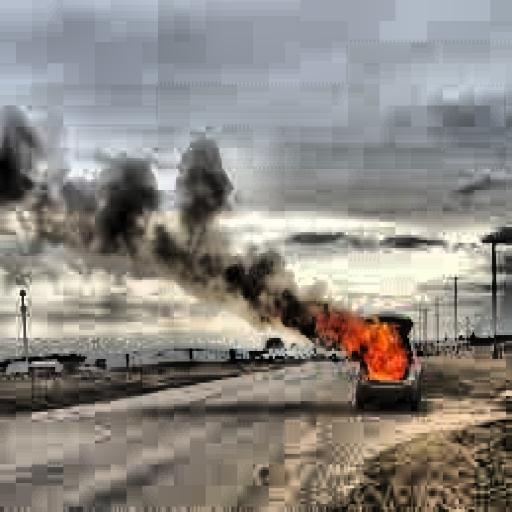fire: (300, 298, 425, 396)
